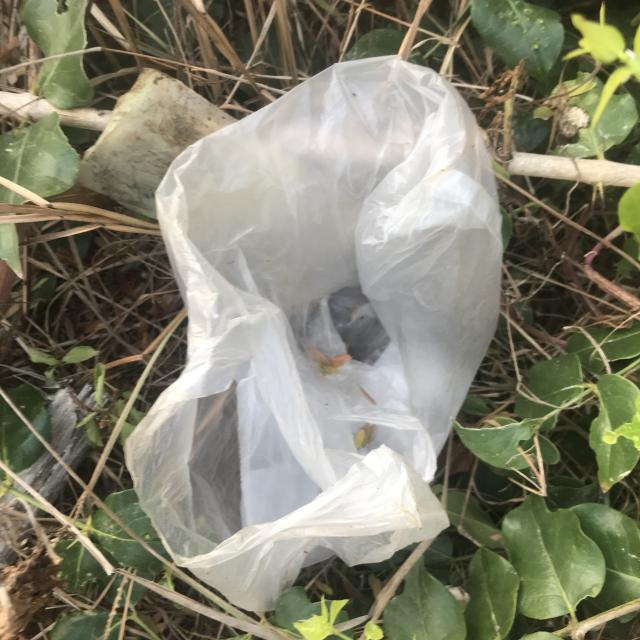Single-layer Plastic: (117, 57, 503, 615)
